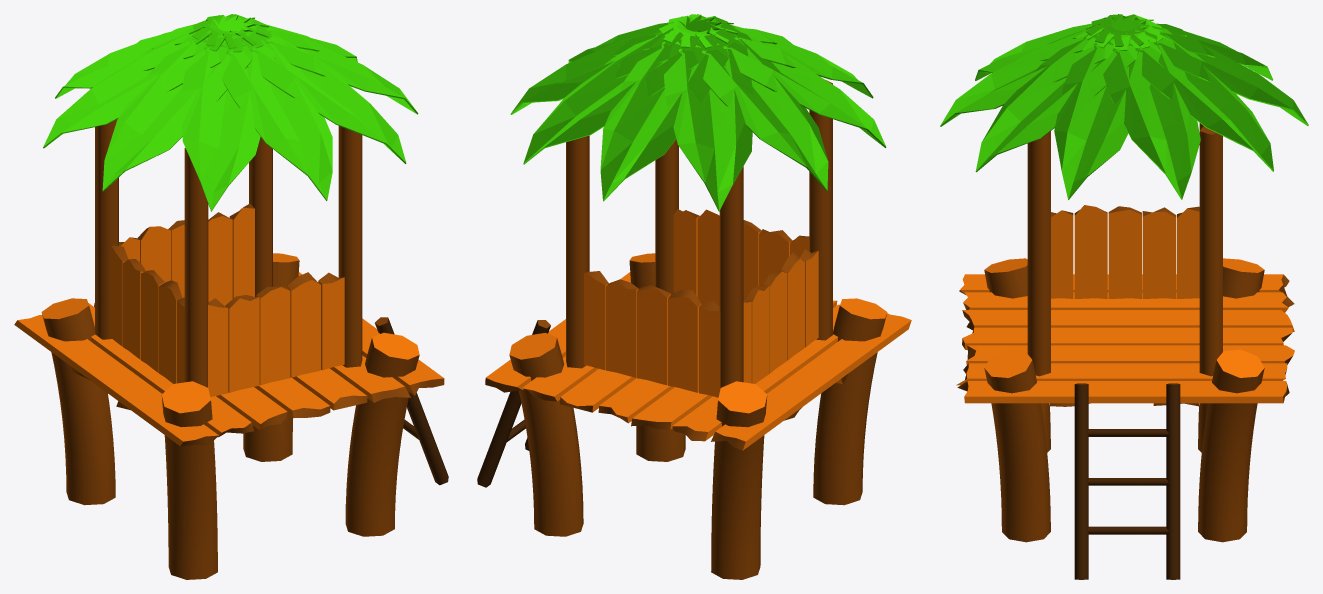
File: tower.fbx
3 views of the same model, side by side, from view 1: azimuth 30°, elevation 25°; view 2: azimuth 150°, elevation 25°; view 3: azimuth 270°, elevation 25° (orthographic). The views are drawn at different scales.
Parts seen in each view (by area): view 1: Box011; view 2: Box011; view 3: Box011.
Boxes of the visible parts, left/top/right/bottom form: Box011: left=14, top=14, right=448, bottom=579; Box011: left=477, top=14, right=911, bottom=579; Box011: left=940, top=14, right=1308, bottom=579.
Size of the model in its own units: 160 by 211 by 150.
